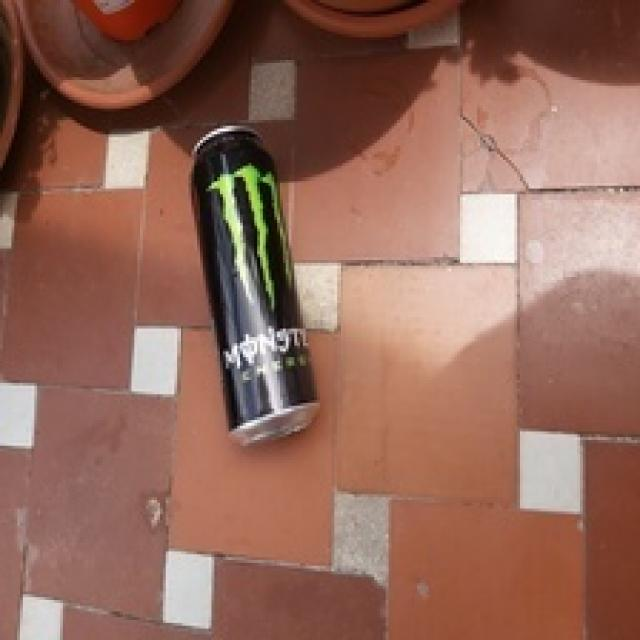recyclable: (192, 120, 323, 450)
